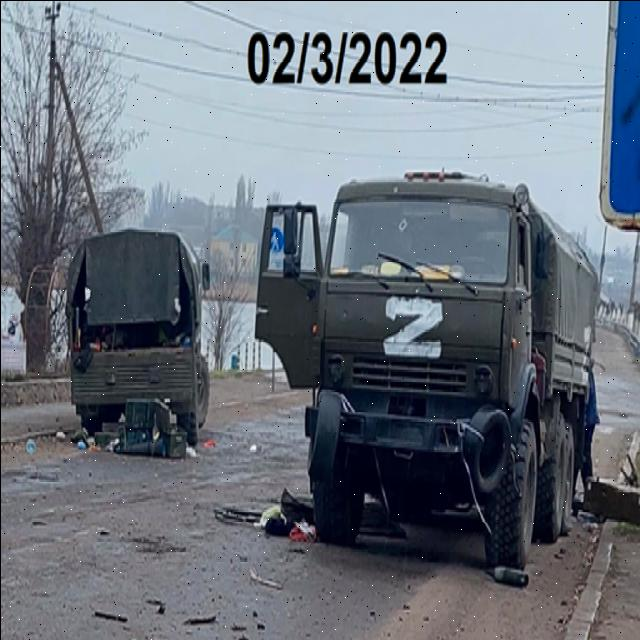TRUCK: (256, 164, 598, 560), (68, 224, 210, 449)
